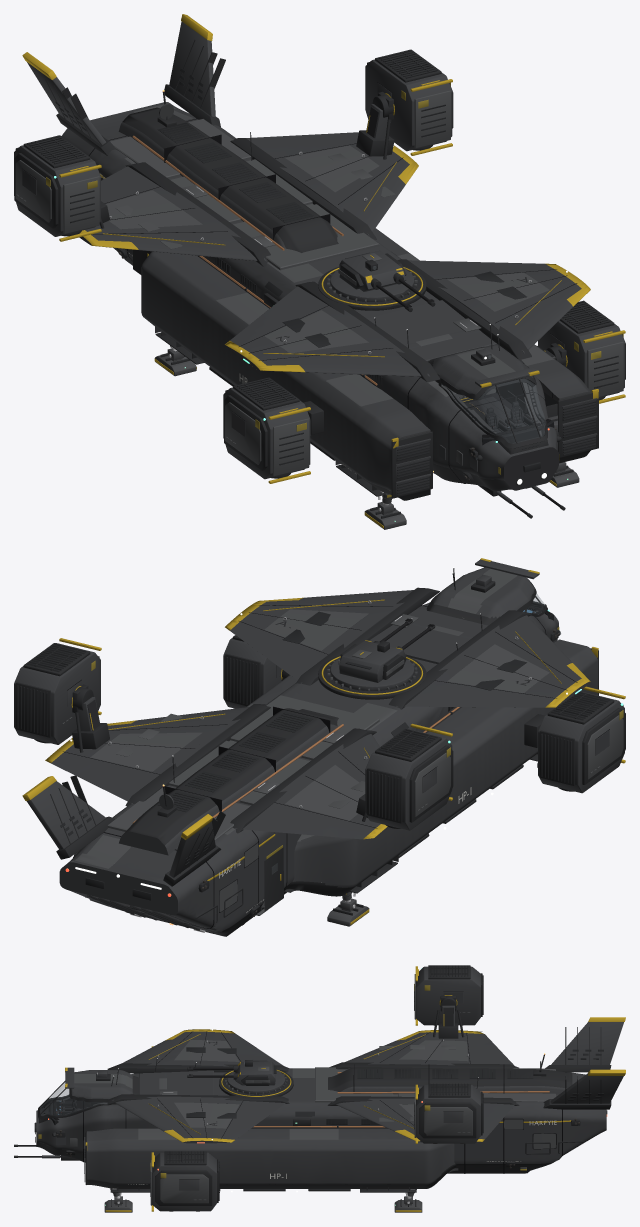
File: Harpyie.cbe26ac2ab.glb
3 renders of one model, top to bottom at view 1: azimuth 30°, elevation 25°; view 2: azimuth 150°, elevation 25°; view 3: azimuth 270°, elevation 25°, orthographic. The views are drawn at different scales.
Parts seen in each view (by area): view 1: Dachpanzer.004, Andockring.006, Dachpanzer.005, Bugstirn.001, Auslegerholm.004, Bugsensor.001, Kanzelglas.001, Gondelklappe.010, Duesenschaufel.112, Duesenschaufel.096, Gondelklappe.008, Einlassschlitz.006 (+18 smaller); view 2: Dachpanzer.004, Dachpanzer.005, Andockring.006, Auslegerholm.004, Bugstirn.001, Bugsensor.001, Gondelklappe.010, Auslassrahmen.007, Auslassrahmen.006, Gondelklappe.014, Gondelklappe.012, Auslassrahmen.005 (+14 smaller); view 3: Dachpanzer.004, Andockring.006, Dachpanzer.005, Bugstirn.001, Auslegerholm.004, Gondelklappe.014, Bugsensor.001, Gondelklappe.008, Gondelklappe.010, Auslassrahmen.004, Auslassrahmen.005, Duesenschaufel.064 (+11 smaller).
Part boxes in pixels (bbox=[...]): Dachpanzer.004: bbox=[61, 102, 590, 491]; Andockring.006: bbox=[45, 40, 598, 518]; Dachpanzer.005: bbox=[105, 102, 554, 406]; Bugstirn.001: bbox=[91, 107, 590, 500]; Auslegerholm.004: bbox=[27, 21, 597, 503]; Bugsensor.001: bbox=[55, 68, 595, 495]; Kanzelglas.001: bbox=[373, 266, 560, 459]; Gondelklappe.010: bbox=[365, 59, 452, 151]; Duesenschaufel.112: bbox=[15, 160, 99, 233]; Duesenschaufel.096: bbox=[225, 402, 309, 476]; Gondelklappe.008: bbox=[538, 320, 624, 397]; Einlassschlitz.006: bbox=[155, 326, 595, 496]; Dachpanzer.004: bbox=[51, 567, 597, 932]; Dachpanzer.005: bbox=[70, 568, 549, 868]; Andockring.006: bbox=[50, 568, 598, 922]; Auslegerholm.004: bbox=[26, 559, 557, 877]; Bugstirn.001: bbox=[63, 599, 547, 936]; Bugsensor.001: bbox=[60, 611, 526, 924]; Gondelklappe.010: bbox=[14, 643, 100, 744]; Auslassrahmen.007: bbox=[367, 729, 453, 828]; Auslassrahmen.006: bbox=[539, 693, 625, 791]; Gondelklappe.014: bbox=[365, 728, 452, 830]; Gondelklappe.012: bbox=[538, 691, 624, 793]; Auslassrahmen.005: bbox=[15, 643, 90, 743]; Dachpanzer.004: bbox=[36, 1029, 606, 1184]; Andockring.006: bbox=[14, 995, 611, 1191]; Dachpanzer.005: bbox=[74, 1040, 555, 1139]; Bugstirn.001: bbox=[36, 1040, 572, 1188]; Auslegerholm.004: bbox=[42, 1005, 623, 1173]; Gondelklappe.014: bbox=[416, 966, 480, 1025]; Bugsensor.001: bbox=[34, 1047, 607, 1181]; Gondelklappe.008: bbox=[152, 1152, 217, 1211]; Gondelklappe.010: bbox=[416, 1085, 480, 1143]; Auslassrahmen.004: bbox=[155, 1151, 218, 1205]; Auslassrahmen.005: bbox=[419, 1084, 482, 1138]; Duesenschaufel.064: bbox=[150, 1160, 208, 1205].
Size of the model in its own units: 19.69 by 10.18 by 37.57.
